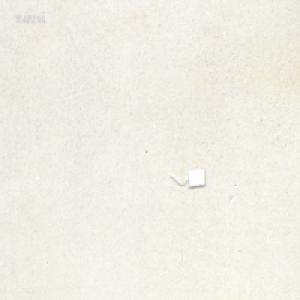LuggageTag: (168, 167, 206, 188)
